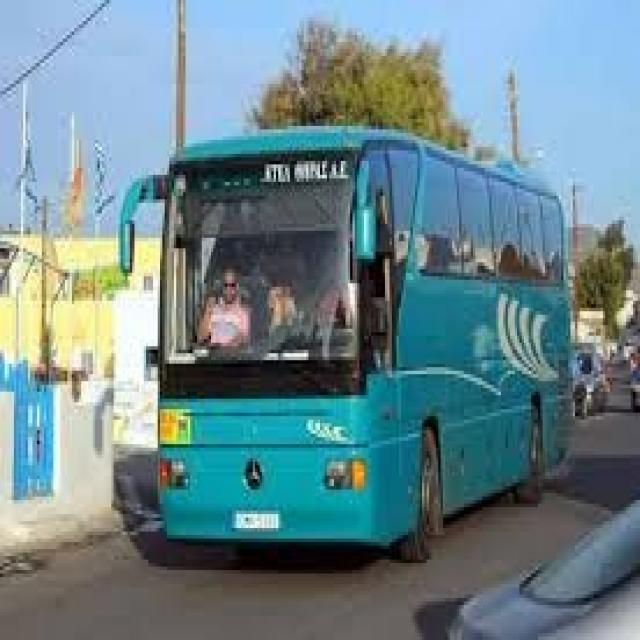bus: (110, 119, 584, 566)
